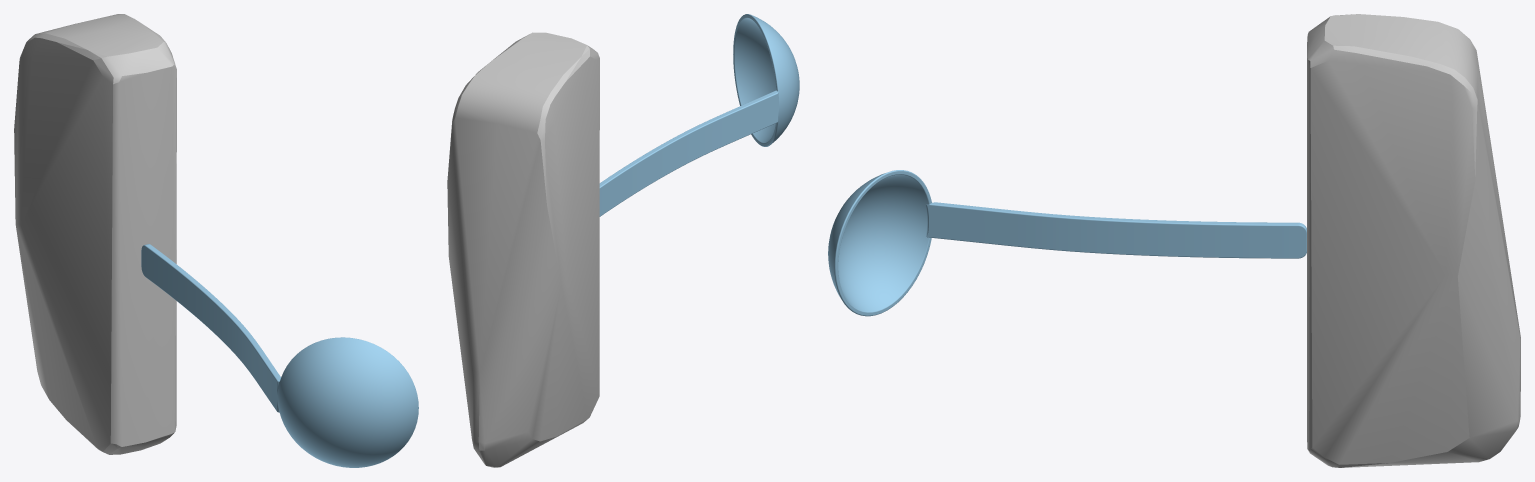
File: mount_hand.obj
3 views of the same model, side by side, from view 1: azimuth 30°, elevation 25°; view 2: azimuth 150°, elevation 25°; view 3: azimuth 270°, elevation 25° (orthographic). The views are drawn at different scales.
Visible parts, largest first — view 1: hand, mesh29; view 2: hand, mesh29; view 3: hand, mesh29.
Boxes of the visible parts, bbox=[...] form: hand: bbox=[14, 14, 176, 454]; mesh29: bbox=[141, 244, 418, 467]; hand: bbox=[447, 32, 599, 467]; mesh29: bbox=[599, 14, 799, 216]; hand: bbox=[1307, 14, 1520, 467]; mesh29: bbox=[828, 170, 1306, 316].
Size of the model in its own units: 0.0633 by 0.2044 by 0.2975.
